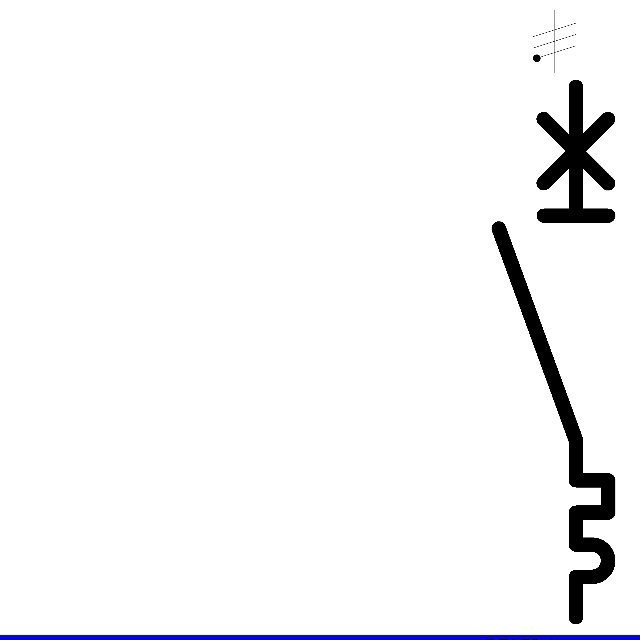interruptor_termomagnetico: (485, 73, 622, 631)
